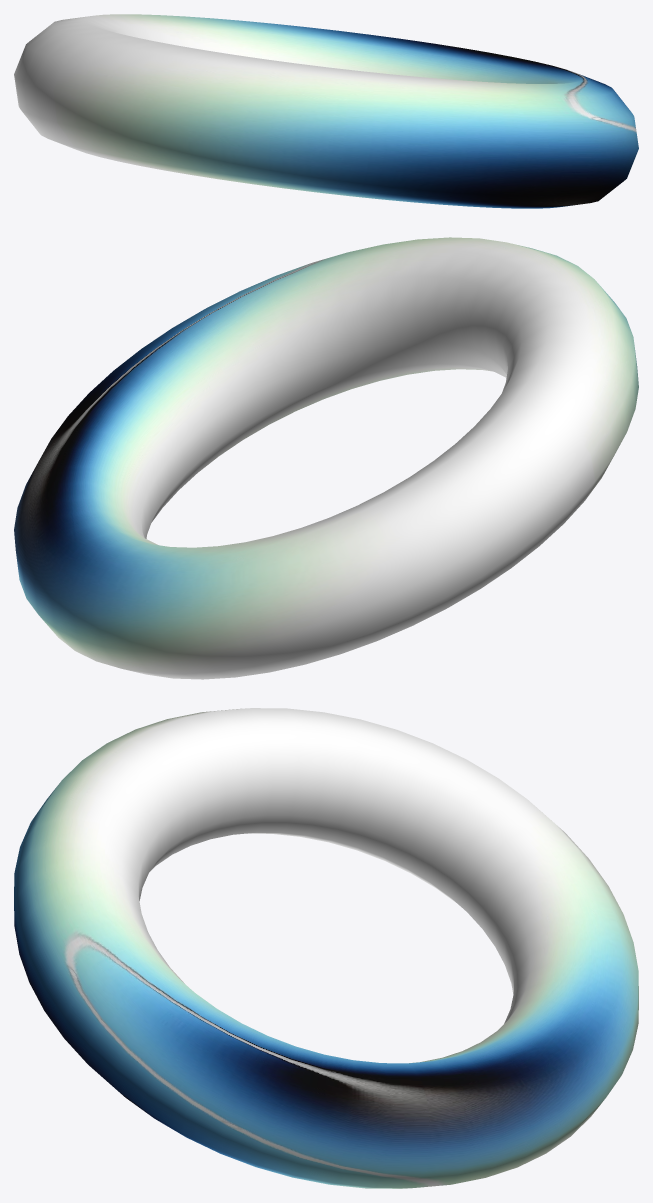
The picture shows the model from 3 angles, top to bottom: view 1: azimuth 30°, elevation 25°; view 2: azimuth 150°, elevation 25°; view 3: azimuth 270°, elevation 25°; orthographic projection. The views are drawn at different scales.
Visible parts, largest first — view 1: Torus; view 2: Torus; view 3: Torus.
Part boxes in pixels (bbox=[...]): Torus: bbox=[14, 14, 638, 208]; Torus: bbox=[14, 237, 638, 679]; Torus: bbox=[14, 708, 638, 1188].
Size of the model in its own units: 24.51 by 12.57 by 24.64.
1 material, 1 textured.
